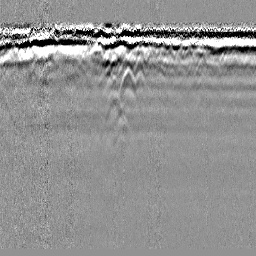cavity: (117, 63, 139, 98)
